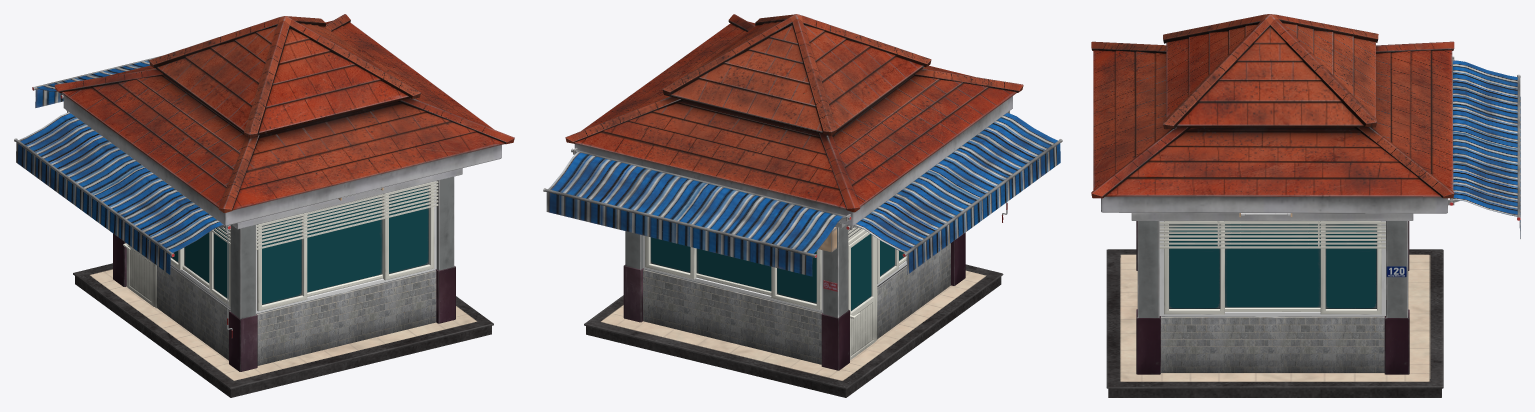
File: Gate House.fbx
3 views of the same model, side by side, from view 1: azimuth 30°, elevation 25°; view 2: azimuth 150°, elevation 25°; view 3: azimuth 270°, elevation 25° (orthographic). The views are drawn at different scales.
Visible parts, largest first — view 1: Gate_House1; view 2: Gate_House1; view 3: Gate_House1.
Boxes of the visible parts, x1,y1,x2,y2 form: Gate_House1: (14,14,514,397); Gate_House1: (543,14,1062,397); Gate_House1: (1091,14,1520,397).
Size of the model in its own units: 669 by 559 by 690.
